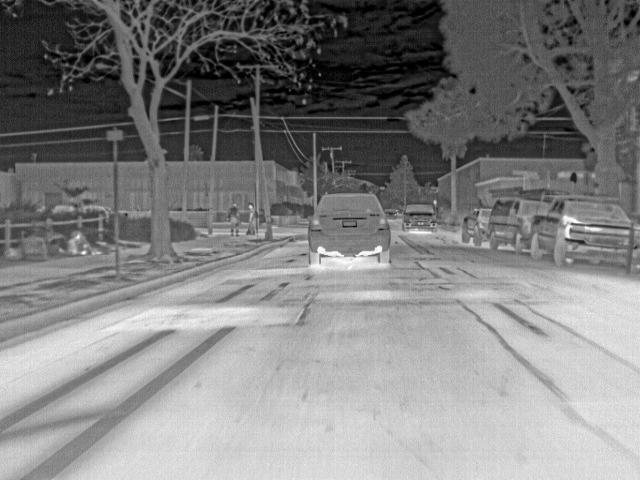car: (529, 195, 640, 274), (308, 191, 391, 268), (487, 194, 550, 254), (461, 206, 493, 250), (400, 200, 438, 232), (82, 204, 114, 214), (384, 208, 400, 221)
person: (229, 201, 241, 237), (245, 202, 257, 236)
